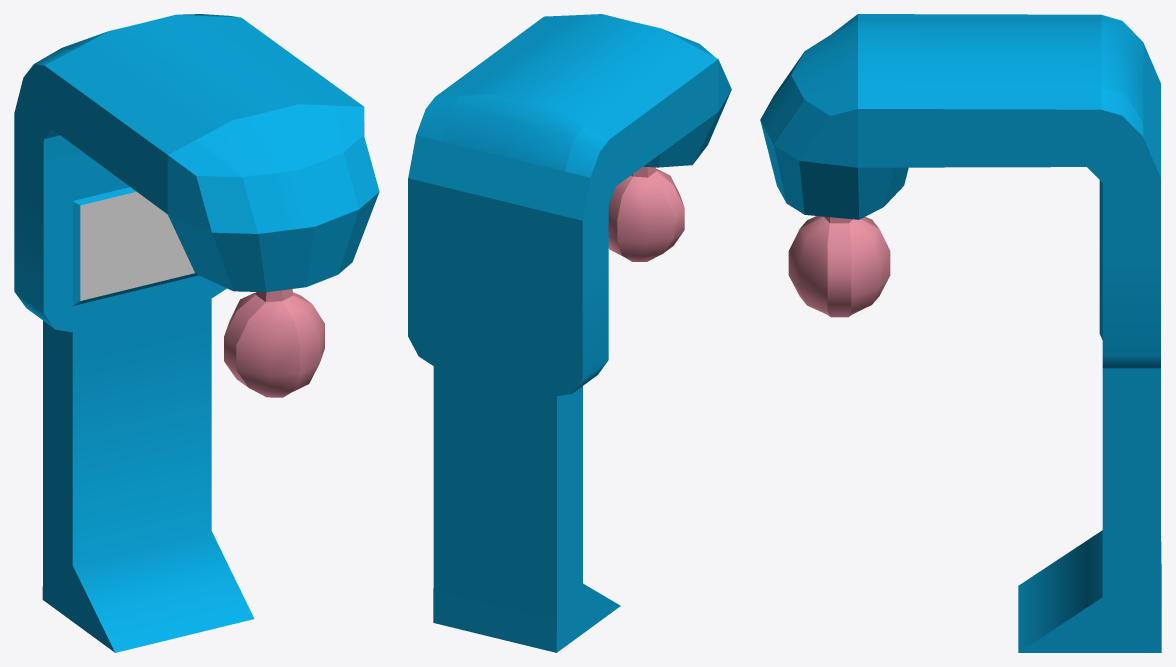
The model's file is box_maknas.fbx.
The picture shows the model from 3 angles, left to right: view 1: azimuth 30°, elevation 25°; view 2: azimuth 150°, elevation 25°; view 3: azimuth 270°, elevation 25°; orthographic projection. The views are drawn at different scales.
Parts seen in each view (by area): view 1: box_makınesı; view 2: box_makınesı; view 3: box_makınesı.
Boxes of the visible parts, x1,y1,x2,y2 form: box_makınesı: (14, 14, 379, 652); box_makınesı: (408, 14, 731, 652); box_makınesı: (760, 14, 1161, 652).
Bounding box in the file's own units: 1.21 × 3.44 × 2.17.
